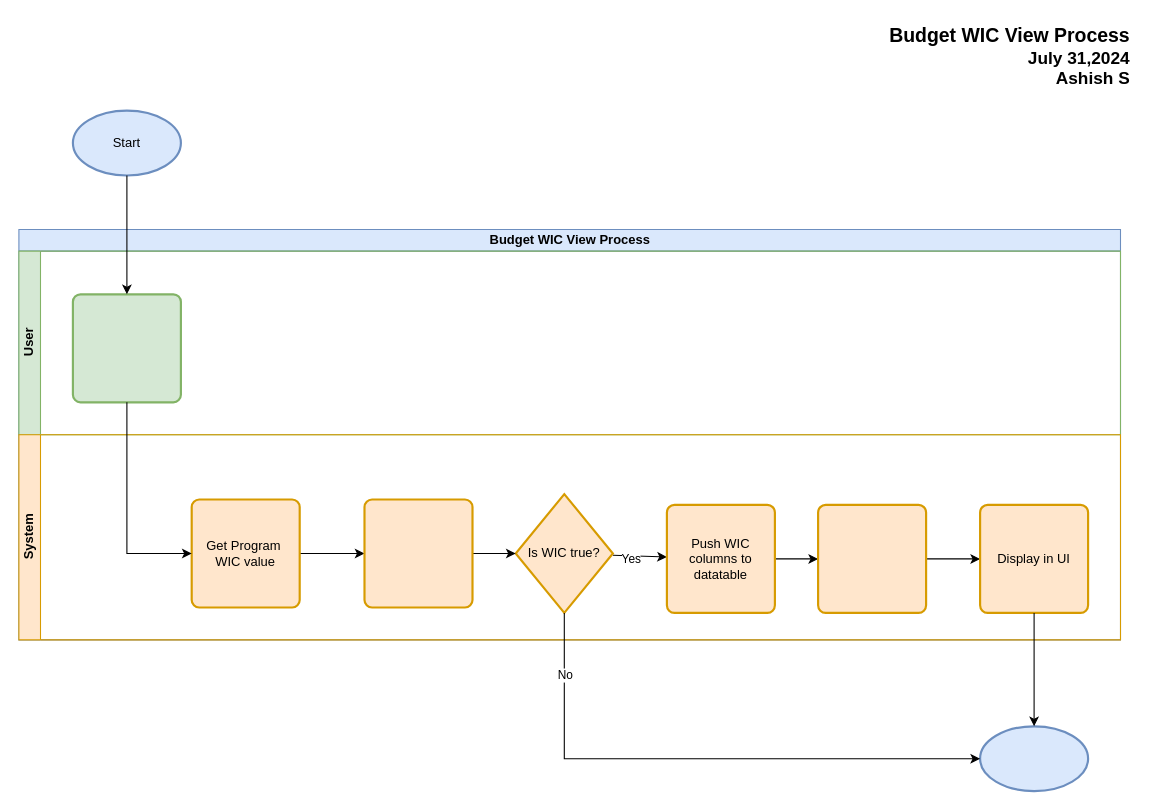
Some shapes in this 1150 by 810 pixel diagram are drawn without their labels. Each missing label, with the centre of its shape:
"End" goes at [1033,758].
"Fetch WIC From Budget Category" goes at [871,558].
"Open Budget Component" goes at [126,348].
"Pass WIC value in child components" goes at [418,553].
